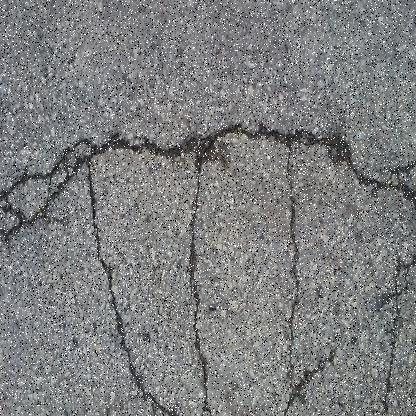Cracks: (0, 114, 415, 256), (252, 118, 415, 415), (84, 124, 219, 416)
